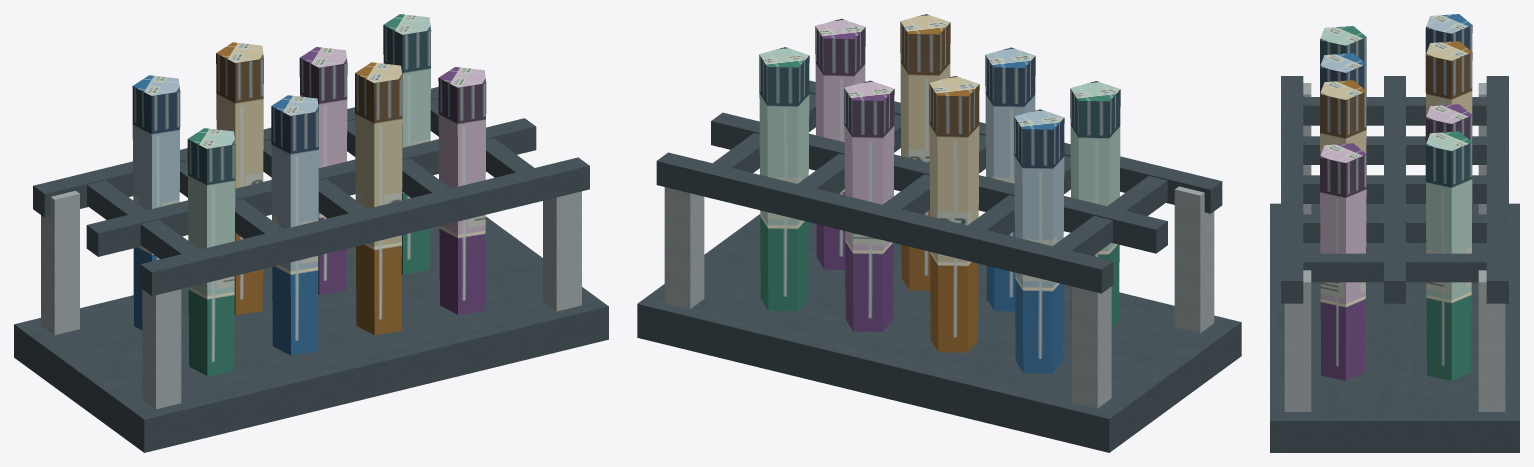
The model's file is Test_Tube_Rack.glb.
3 views of the same model, side by side, from view 1: azimuth 30°, elevation 25°; view 2: azimuth 150°, elevation 25°; view 3: azimuth 270°, elevation 25° (orthographic). The views are drawn at different scales.
Visible parts, largest first — view 1: Test_Tube_Rack; view 2: Test_Tube_Rack; view 3: Test_Tube_Rack.
Boxes of the visible parts, <box> form: Test_Tube_Rack: <box>14,14,608,452</box>; Test_Tube_Rack: <box>637,14,1241,452</box>; Test_Tube_Rack: <box>1270,14,1519,452</box>.
Bounding box in the file's own units: 0.35 × 0.206 × 0.17.
1 material, 1 textured.
